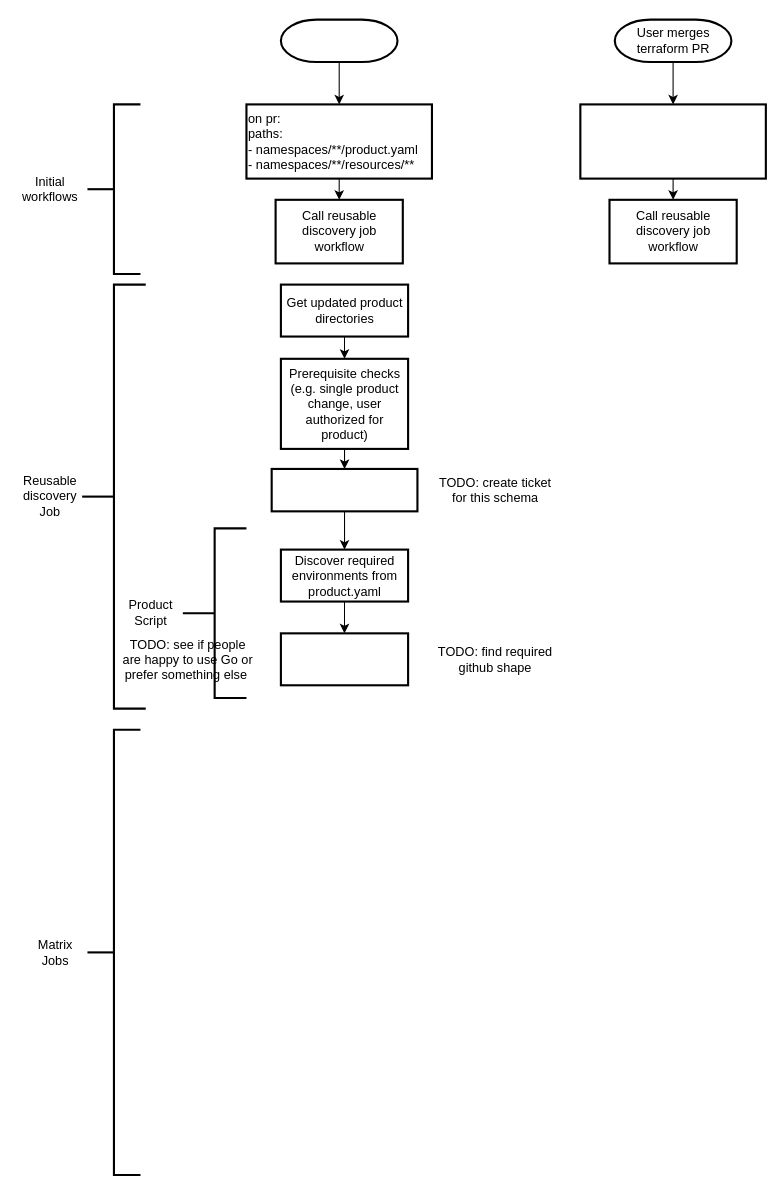
Some shapes in this 784 by 1194 pixel diagram are drawn without their labels. Here are the shapes that lost their labels. From the top down, the centre of each, then its label:
pixel 338 40: User raises terraform PR
pixel 672 141: on push: main paths: - namespaces/**/product.yaml - namespaces/**/resources/**
pixel 344 489: Validate product.yaml with YAML schema
pixel 344 659: Convert required environments object to github shape
